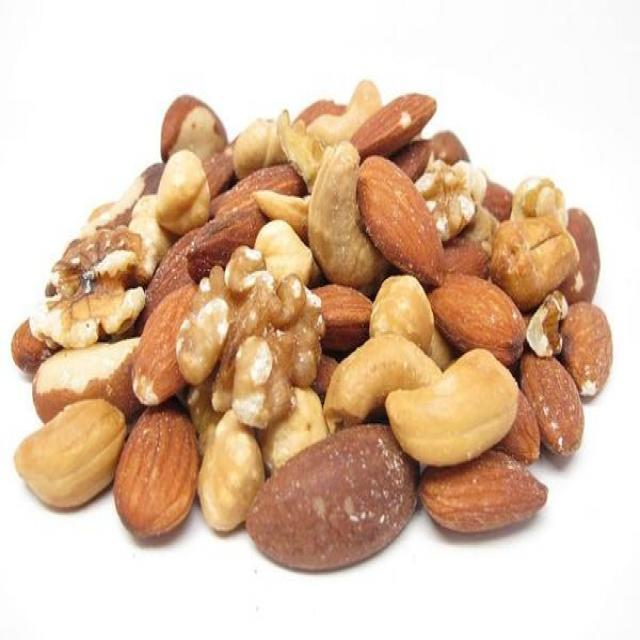Frutta secca: (15, 86, 617, 568)
